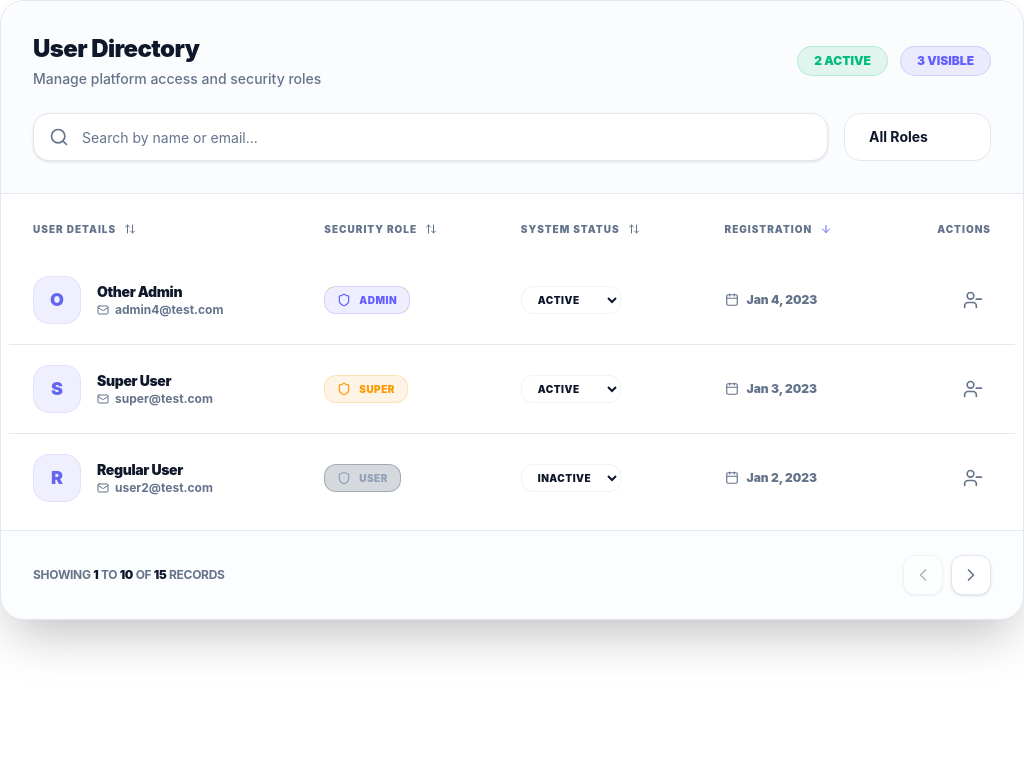
Test case: AdminUserTable › filters users by role
Expected: the text "Regular User" is shown, [97,461,183,478]
Select "Users" in the dropdown with test id "role-filter" at (918, 137), box [844,113,991,161]
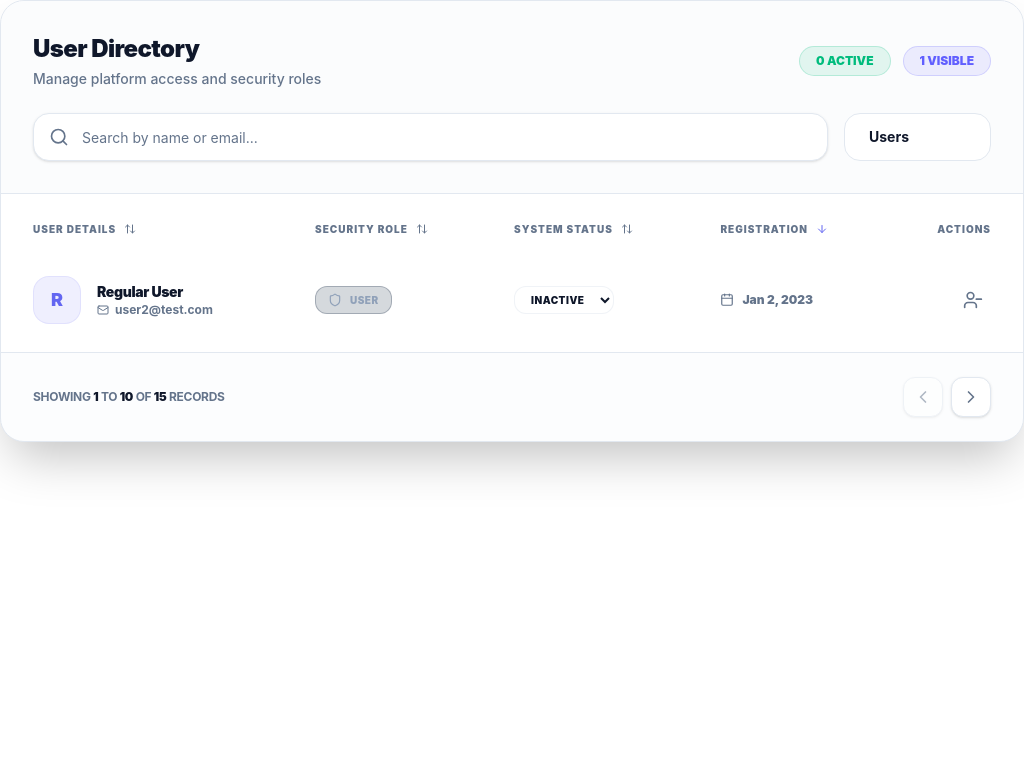
Expected: the text "Regular User" is shown, [97,283,183,300]
Expected: the text "Super User" is gone
